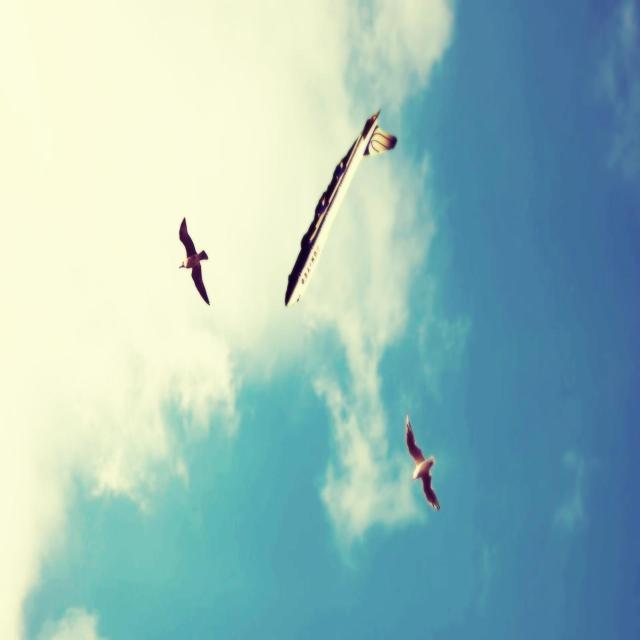airplane: (284, 107, 398, 308)
